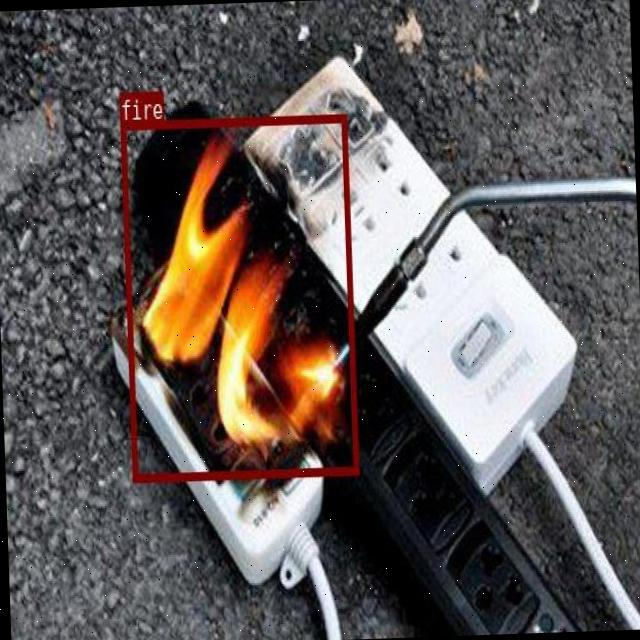fire: (119, 113, 357, 481)
